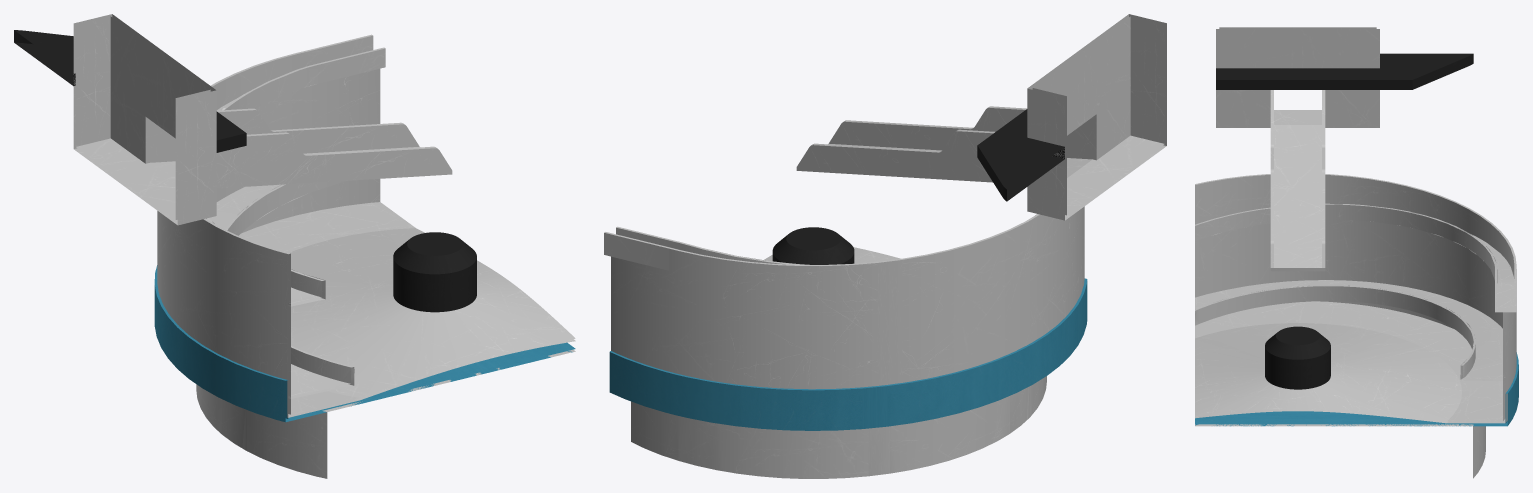
The model's file is TightenerStation_Cube04.glb.
3 renders of one model, left to right at view 1: azimuth 30°, elevation 25°; view 2: azimuth 150°, elevation 25°; view 3: azimuth 270°, elevation 25°, orthographic. The views are drawn at different scales.
Parts seen in each view (by area): view 1: color-2.003; view 2: color-2.003; view 3: color-2.003.
Boxes of the visible parts, <box> form: color-2.003: <box>14,14,575,478</box>; color-2.003: <box>604,14,1166,478</box>; color-2.003: <box>1195,27,1518,478</box>.
Size of the model in its own units: 0.32 by 0.32 by 0.296.
Materials: 3 (3 with a texture image).
